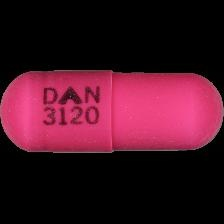63629-2924: (0, 0, 224, 224)
